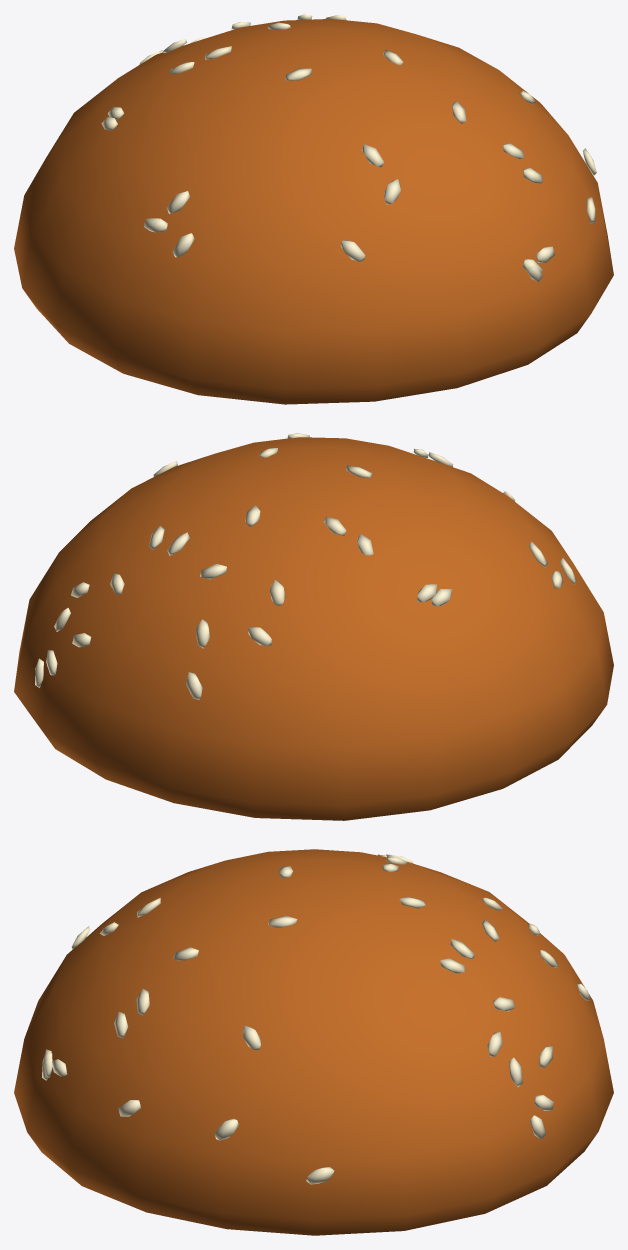
The model's file is bun-top.glb.
3 views of the same model, one above another, from view 1: azimuth 30°, elevation 25°; view 2: azimuth 150°, elevation 25°; view 3: azimuth 270°, elevation 25° (orthographic).
Parts seen in each view (by area): view 1: bun-top, sesame; view 2: bun-top, sesame; view 3: bun-top, sesame.
Boxes of the visible parts, x1,y1,x2,y2 form: bun-top: (14,19,613,404); sesame: (101,14,596,281); bun-top: (14,437,613,820); sesame: (35,433,576,699); bun-top: (14,849,613,1235); sesame: (42,854,590,1184).
Size of the model in its own units: 9.95 by 4.23 by 9.93.
